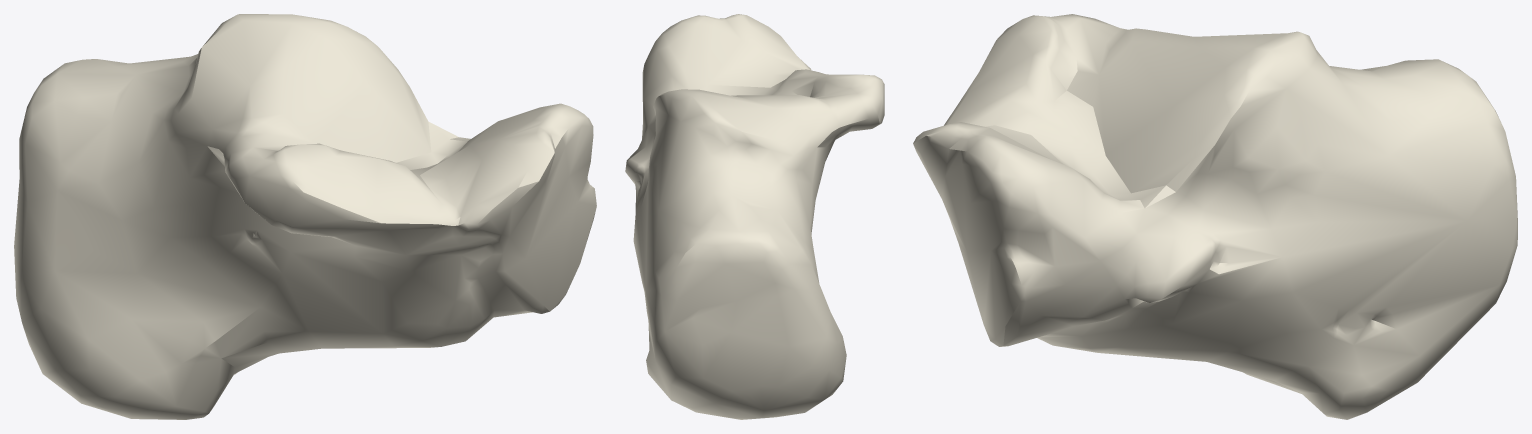
The model's file is fma24498_fj3256.glb.
The picture shows the model from 3 angles, left to right: view 1: azimuth 30°, elevation 25°; view 2: azimuth 150°, elevation 25°; view 3: azimuth 270°, elevation 25°; orthographic projection. The views are drawn at different scales.
Parts seen in each view (by area): view 1: FMA24498_FJ3256; view 2: FMA24498_FJ3256; view 3: FMA24498_FJ3256.
Part boxes in pixels (left/top/right/bottom): FMA24498_FJ3256: left=14, top=14, right=596, bottom=419; FMA24498_FJ3256: left=625, top=14, right=884, bottom=419; FMA24498_FJ3256: left=913, top=14, right=1517, bottom=419.
Size of the model in its own units: 0.0558 by 0.0493 by 0.0699.
